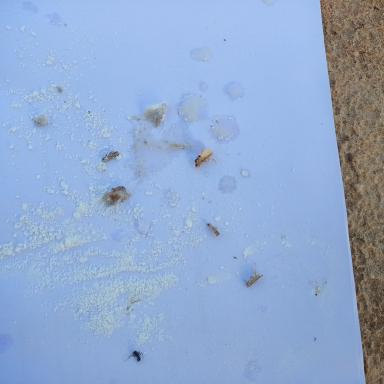pbw: (144, 102, 167, 126), (243, 263, 263, 287), (194, 148, 217, 167), (100, 150, 119, 161), (206, 222, 220, 236)
